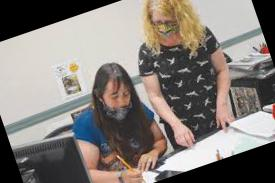mask_weared_incorrect: (105, 86, 137, 118)
with_mask: (152, 12, 179, 38)
